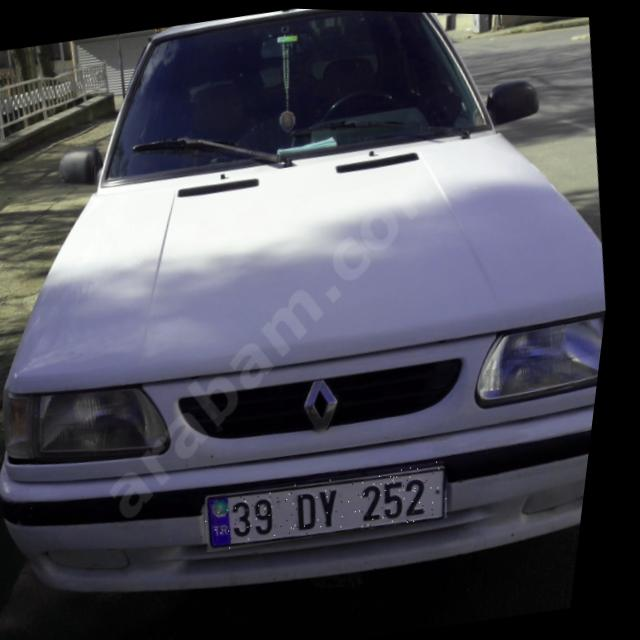license_plate: (211, 452, 465, 556)
